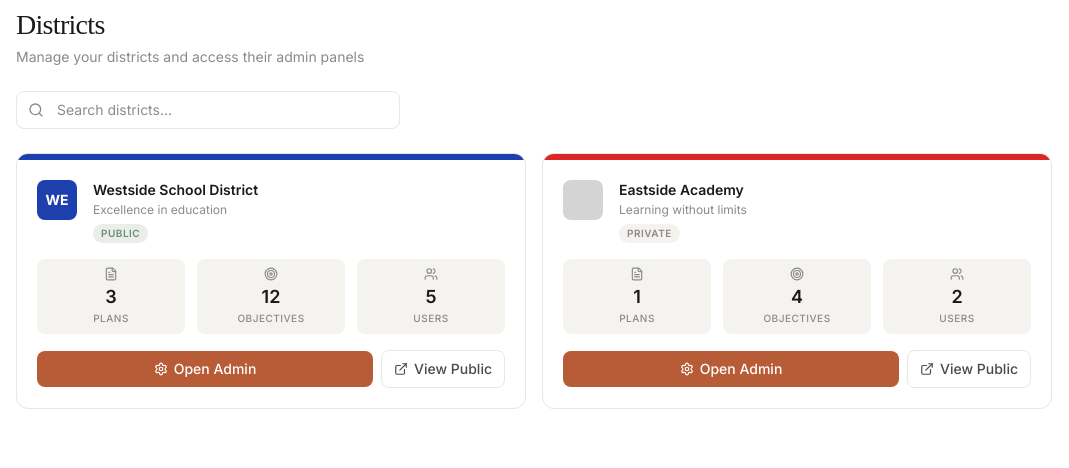
Test: DashboardDistrictsPage › shows result count when searching
The image size is (1069, 468).
Type "Westside" into the field with placeholder "Search districts...".
click(208, 110); type("Westside")  # box [16,91,400,129]
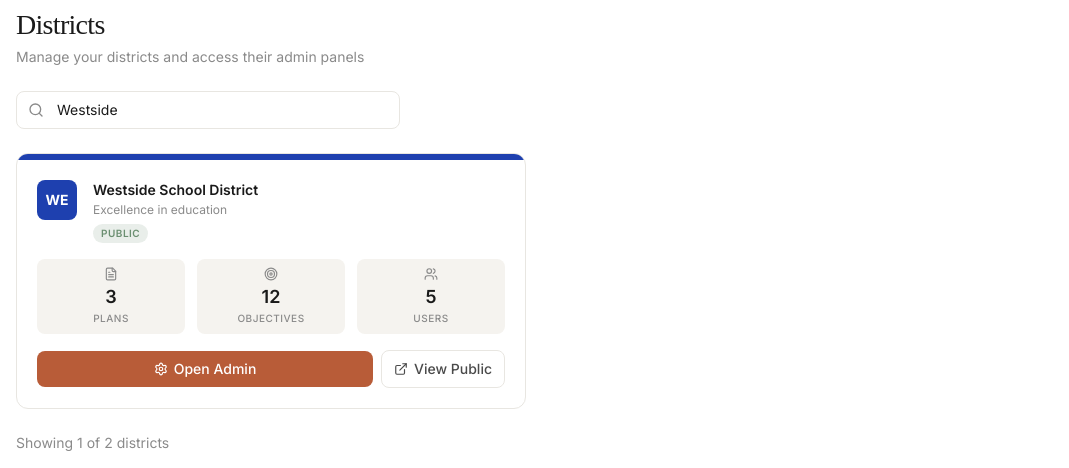
Result: the text "Showing 1 of 2 districts" is shown at [16,434,169,451]
